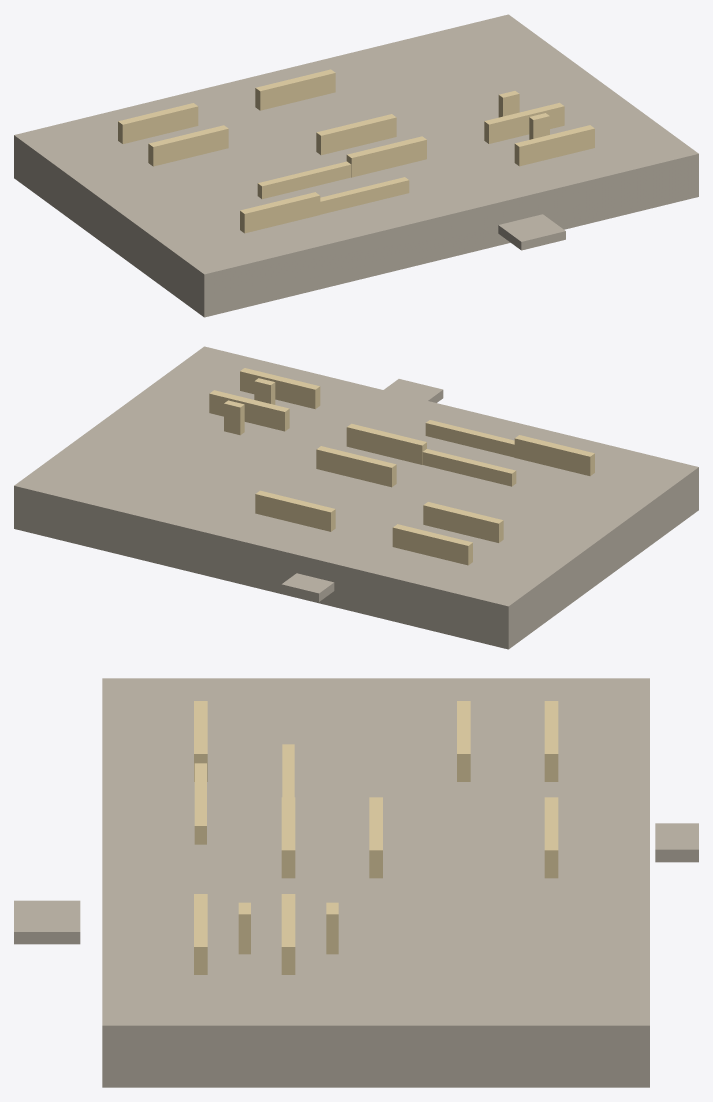
Rendered from 25-Ruinas-Templos_losa_grabado.glb.
The picture shows the model from 3 angles, top to bottom: view 1: azimuth 30°, elevation 25°; view 2: azimuth 150°, elevation 25°; view 3: azimuth 270°, elevation 25°; orthographic projection. The views are drawn at different scales.
Parts seen in each view (by area): view 1: SM_Losa_M_Losa_Grabado, SM_Losa_M_Talla_Grabado; view 2: SM_Losa_M_Losa_Grabado, SM_Losa_M_Talla_Grabado; view 3: SM_Losa_M_Losa_Grabado, SM_Losa_M_Talla_Grabado.
Boxes of the visible parts, x1,y1,x2,y2 form: SM_Losa_M_Losa_Grabado: (14, 14, 698, 317); SM_Losa_M_Talla_Grabado: (118, 69, 594, 233); SM_Losa_M_Losa_Grabado: (14, 346, 698, 649); SM_Losa_M_Talla_Grabado: (209, 368, 594, 565); SM_Losa_M_Losa_Grabado: (14, 678, 698, 1087); SM_Losa_M_Talla_Grabado: (194, 701, 558, 974).
Size of the model in its own units: 1.2 by 0.1644 by 1.
